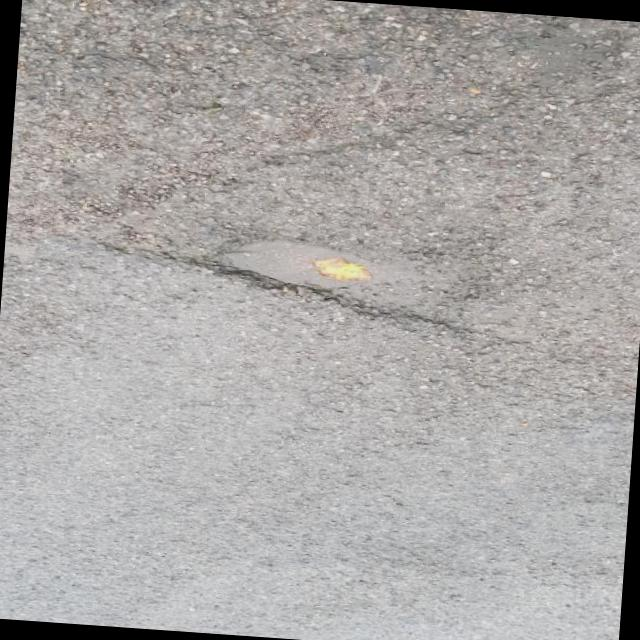pothole: (191, 228, 493, 336)
